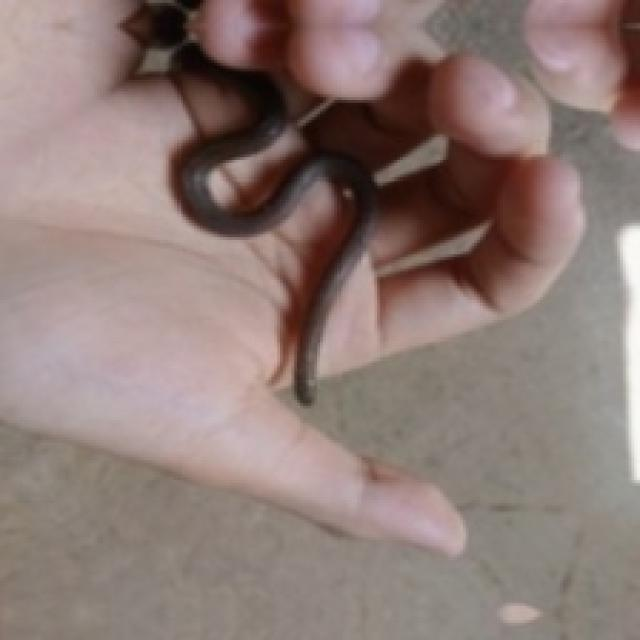gervais worm snake: (169, 42, 376, 404)
